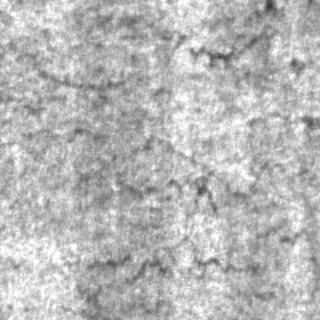crazing: (112, 133, 318, 273), (74, 222, 318, 318), (18, 1, 280, 90)
